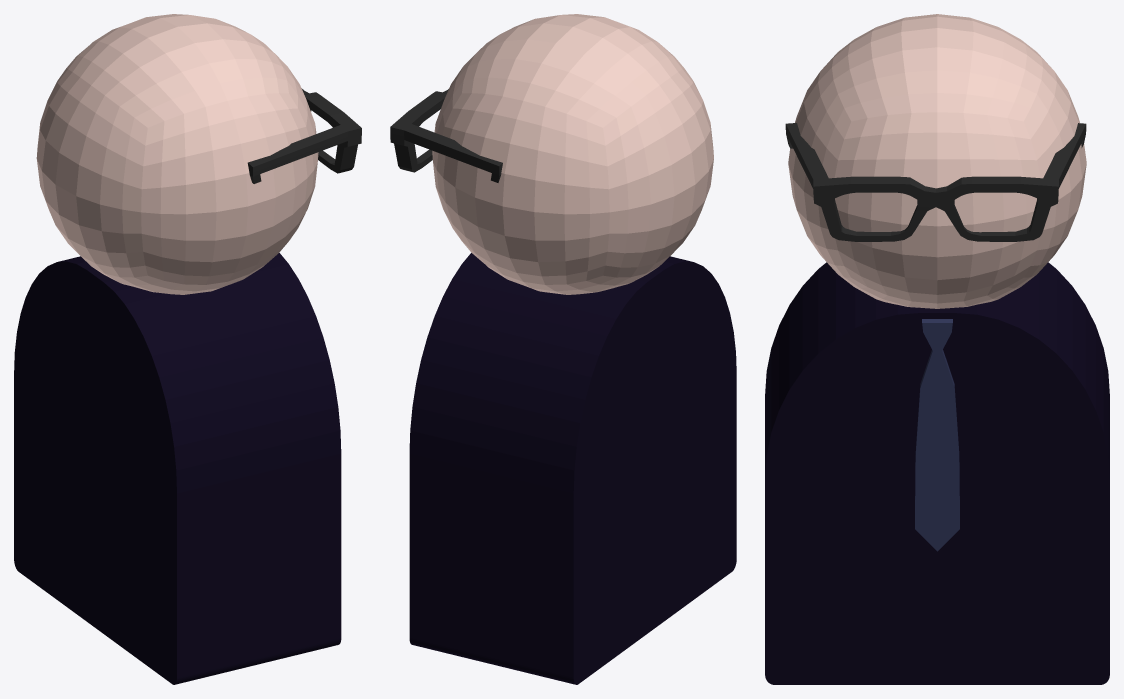
The model's file is BossBoss.fbx.
3 views of the same model, side by side, from view 1: azimuth 30°, elevation 25°; view 2: azimuth 150°, elevation 25°; view 3: azimuth 270°, elevation 25° (orthographic). The views are drawn at different scales.
Parts seen in each view (by area): view 1: Cube, Cube.001, Cube.003; view 2: Cube, Cube.001, Cube.003; view 3: Cube, Cube.001, Cube.003, Cube.002.
Part boxes in pixels (x1=…): Cube: x1=14, y1=253, x2=341, y2=684; Cube.001: x1=36, y1=14, x2=318, y2=294; Cube.003: x1=247, y1=88, x2=361, y2=183; Cube: x1=409, y1=253, x2=736, y2=684; Cube.001: x1=432, y1=14, x2=713, y2=294; Cube.003: x1=390, y1=89, x2=502, y2=182; Cube: x1=765, y1=262, x2=1109, y2=684; Cube.001: x1=788, y1=14, x2=1086, y2=308; Cube.003: x1=785, y1=123, x2=1086, y2=241; Cube.002: x1=915, y1=319, x2=959, y2=551.
Size of the model in its own units: 148 by 331 by 168.
